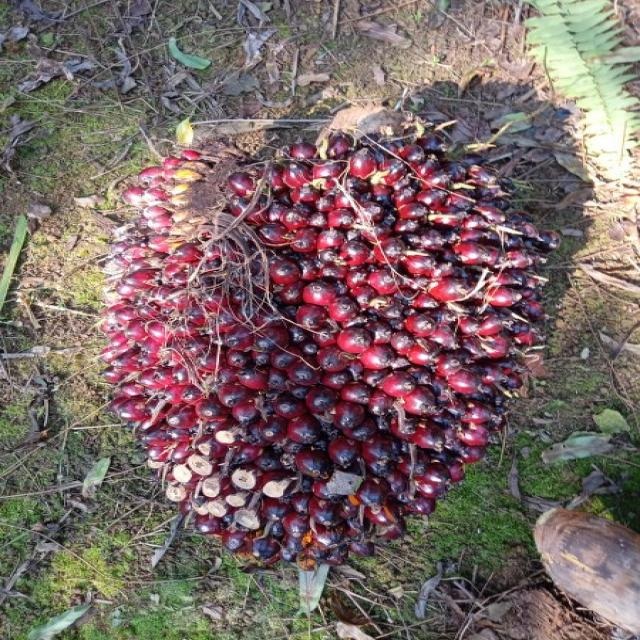fraksi 1: (71, 102, 583, 590)
